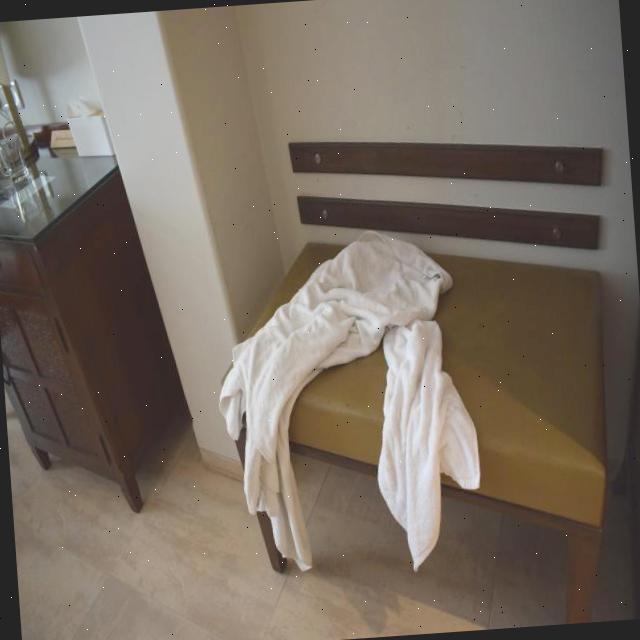disorganized_towel: (213, 231, 480, 572)
